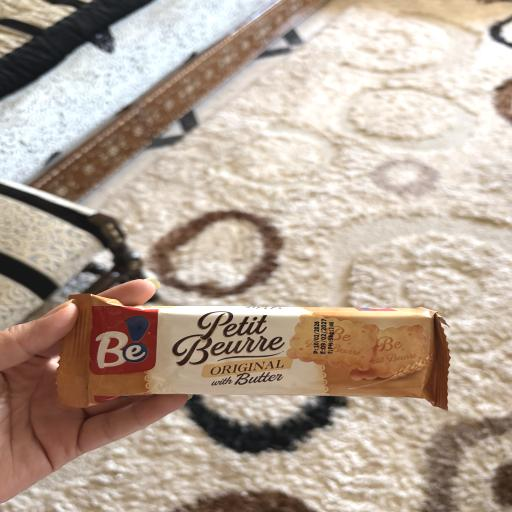petit-beurre: (26, 267, 499, 450)
